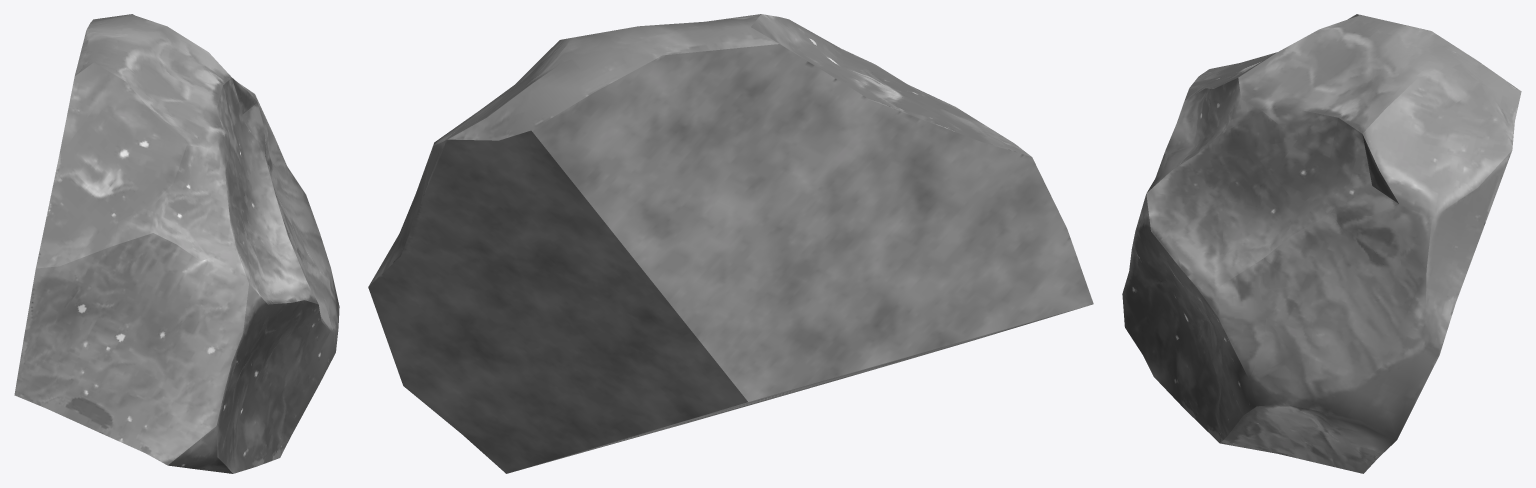
File: frag_04.glb
The picture shows the model from 3 angles, left to right: view 1: azimuth 30°, elevation 25°; view 2: azimuth 150°, elevation 25°; view 3: azimuth 270°, elevation 25°; orthographic projection. The views are drawn at different scales.
Parts seen in each view (by area): view 1: frag_04; view 2: frag_04; view 3: frag_04.
Part boxes in pixels (x1,y1,x2,y2): frag_04: (14,14,339,473); frag_04: (368,14,1093,473); frag_04: (1122,14,1521,473).
Size of the model in its own units: 1.71 by 1.49 by 1.44.
Materials: 1 (1 with a texture image).
